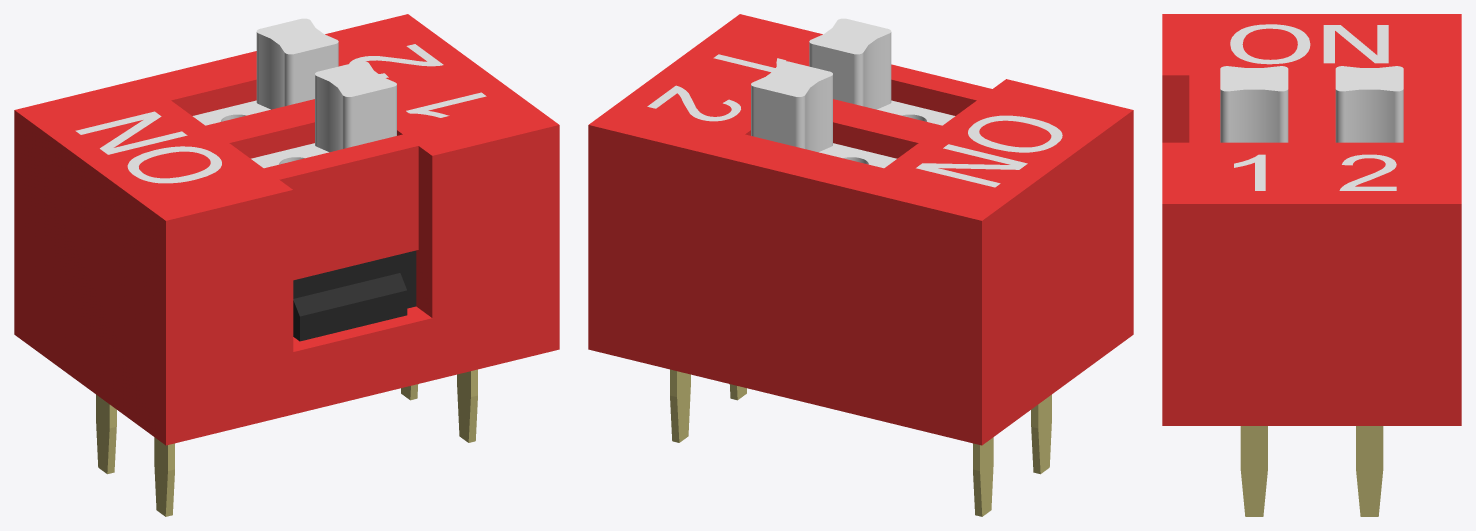
The picture shows the model from 3 angles, left to right: view 1: azimuth 30°, elevation 25°; view 2: azimuth 150°, elevation 25°; view 3: azimuth 270°, elevation 25°; orthographic projection.
Visible parts, largest first — view 1: =>[0:1:1:3], =>[0:1:1:2]; view 2: =>[0:1:1:3], =>[0:1:1:2]; view 3: =>[0:1:1:3], =>[0:1:1:2].
Part boxes in pixels (left/top/right/bottom): =>[0:1:1:3]: left=14, top=14, right=559, bottom=516; =>[0:1:1:2]: left=75, top=44, right=486, bottom=183; =>[0:1:1:3]: left=588, top=14, right=1133, bottom=516; =>[0:1:1:2]: left=647, top=54, right=1062, bottom=187; =>[0:1:1:3]: left=1162, top=14, right=1461, bottom=516; =>[0:1:1:2]: left=1230, top=24, right=1396, bottom=190.
Bounding box in the file's own units: 0.0099 × 0.0093 × 0.0066.
